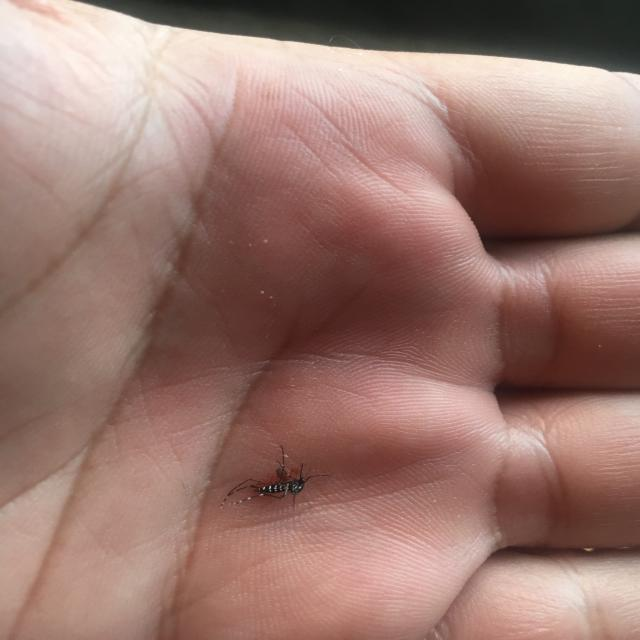albopictus: (220, 441, 332, 513)
